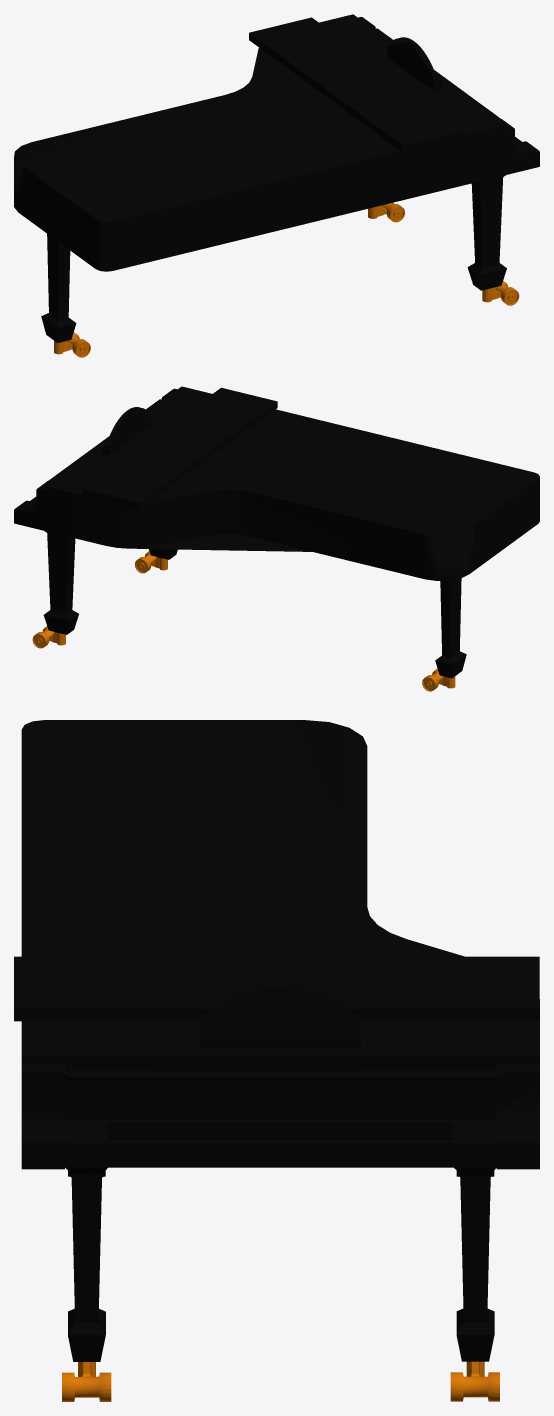
File: FixedPiano.fbx
3 views of the same model, one above another, from view 1: azimuth 30°, elevation 25°; view 2: azimuth 150°, elevation 25°; view 3: azimuth 270°, elevation 25° (orthographic). The views are drawn at different scales.
Visible parts, largest first — view 1: polySurface1; view 2: polySurface1; view 3: polySurface1.
Part boxes in pixels (left/top/right/bottom): polySurface1: left=14, top=14, right=539, bottom=357; polySurface1: left=14, top=386, right=539, bottom=691; polySurface1: left=14, top=720, right=539, bottom=1401.
Bounding box in the file's own units: 21.09 × 10.4 × 12.86.
